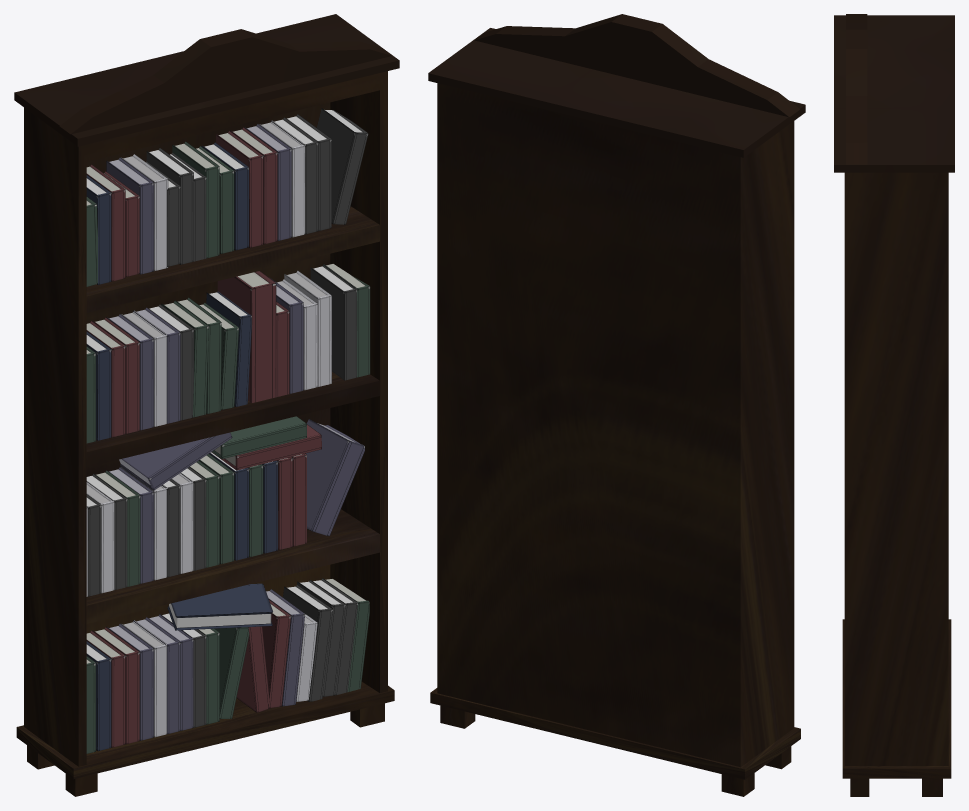
File: estante_com_livros.glb
3 views of the same model, side by side, from view 1: azimuth 30°, elevation 25°; view 2: azimuth 150°, elevation 25°; view 3: azimuth 270°, elevation 25° (orthographic). The views are drawn at different scales.
Parts seen in each view (by area): view 1: estante, livros.017, livros.038, livros.049, livros.016, livros.034, livros.071, livros.005, livros.048, livros.079, livros.018, livros.050 (+67 smaller); view 2: estante; view 3: estante.
Part boxes in pixels (bbox=[...]): estante: bbox=[14, 14, 399, 796]; livros.017: bbox=[306, 419, 364, 536]; livros.038: bbox=[217, 271, 276, 403]; livros.049: bbox=[167, 583, 272, 630]; livros.016: bbox=[316, 108, 368, 224]; livros.034: bbox=[310, 264, 357, 380]; livros.071: bbox=[119, 432, 232, 490]; livros.005: bbox=[106, 157, 153, 274]; livros.048: bbox=[215, 627, 249, 718]; livros.079: bbox=[212, 416, 306, 458]; livros.018: bbox=[216, 131, 263, 247]; livros.050: bbox=[283, 585, 332, 701]; estante: bbox=[428, 14, 805, 796]; estante: bbox=[834, 14, 954, 796].
Size of the model in its own units: 3.05 by 6.5 by 1.04.
7 materials, 7 textured.
